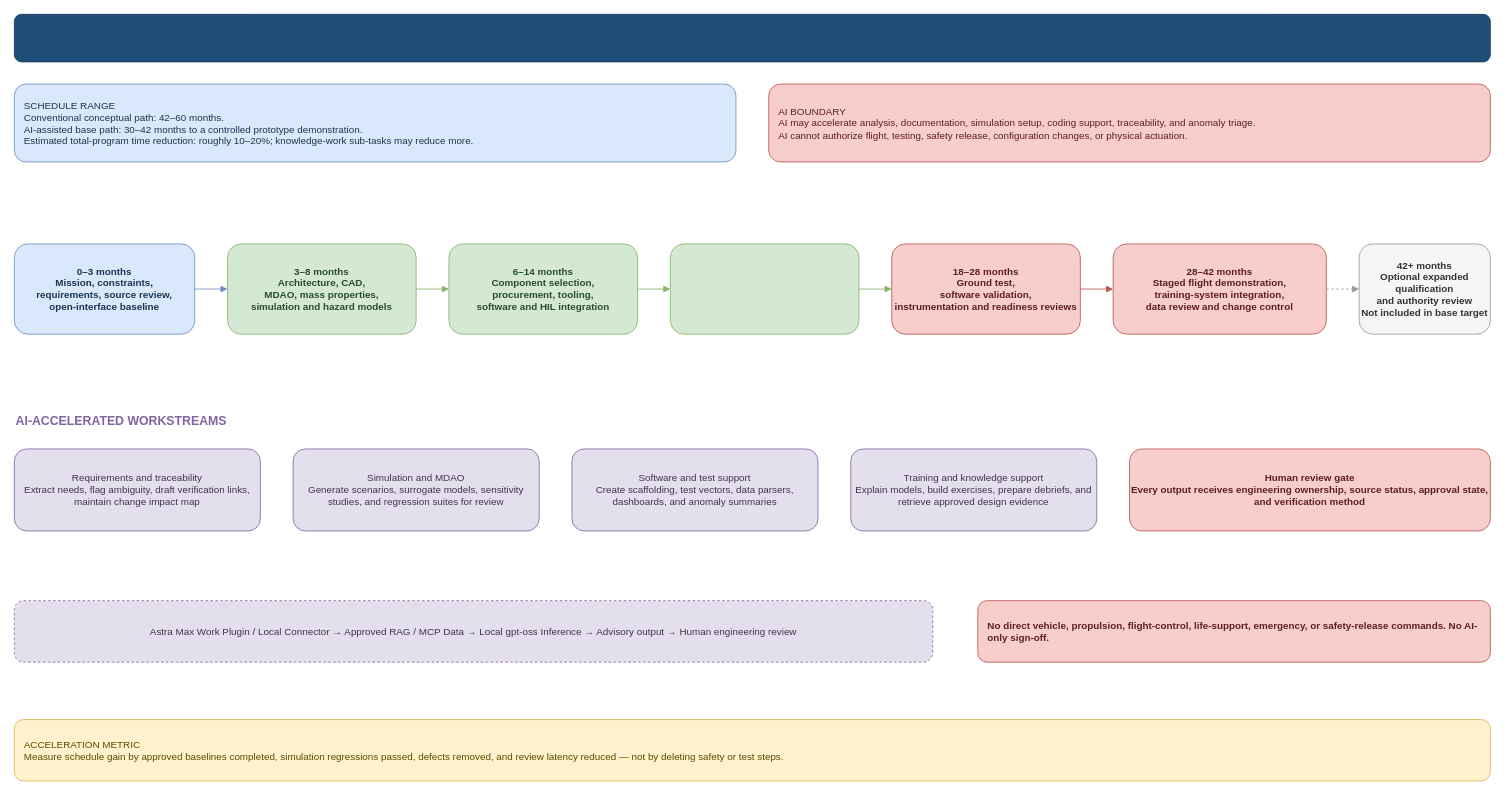
Some shapes in this 1505 by 795 pixel diagram are drawn without their labels. The box of each missing label's shape, as (x1, y1, x2, y2) in pixels:
12–22 months Airframe assembly, systems integration, ground rigs and simulator: (670, 243, 859, 334)
Accelerated Development with AI — Schedule, Work Packages, and Gates: (14, 14, 1490, 62)
